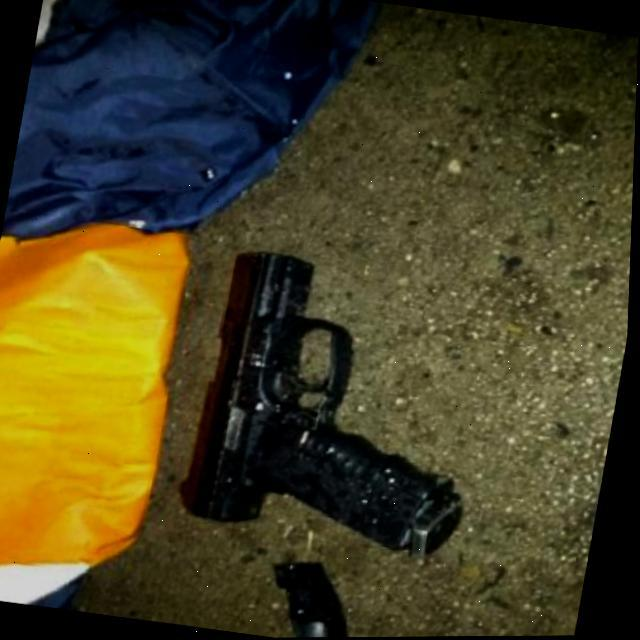gun: (171, 238, 510, 578)
